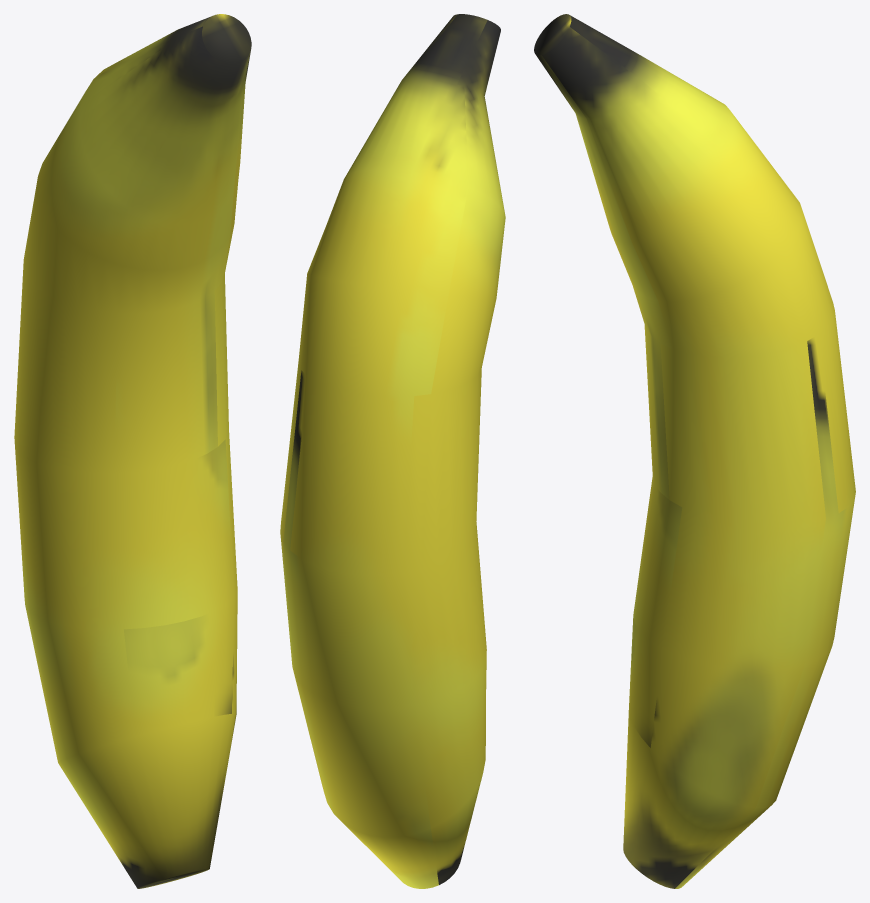
File: Banana.fbx
3 renders of one model, left to right at view 1: azimuth 30°, elevation 25°; view 2: azimuth 150°, elevation 25°; view 3: azimuth 270°, elevation 25°, orthographic. The views are drawn at different scales.
Parts seen in each view (by area): view 1: banana; view 2: banana; view 3: banana.
Part boxes in pixels (bbox=[...]): banana: bbox=[14, 14, 251, 888]; banana: bbox=[280, 14, 505, 888]; banana: bbox=[534, 14, 855, 888].
Size of the model in its own units: 8.48 by 39.07 by 13.18.
Materials: 1 (1 with a texture image).
